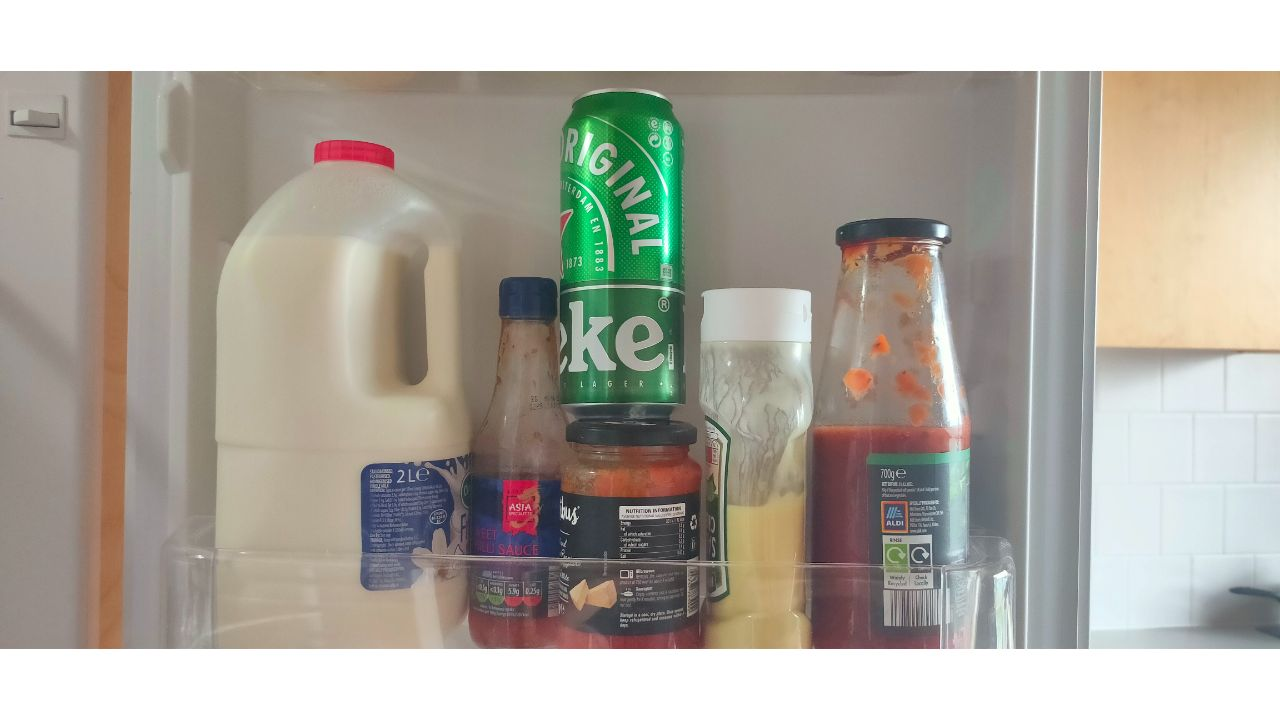Can: (555, 89, 692, 420)
